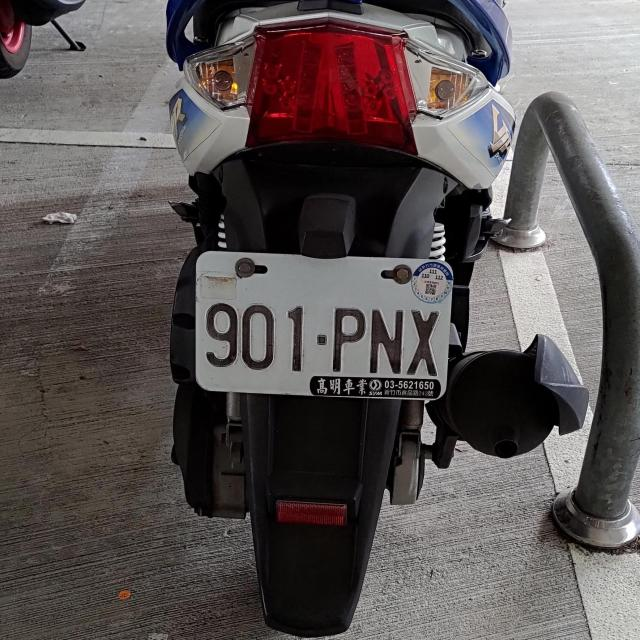W: (194, 252, 448, 395)
